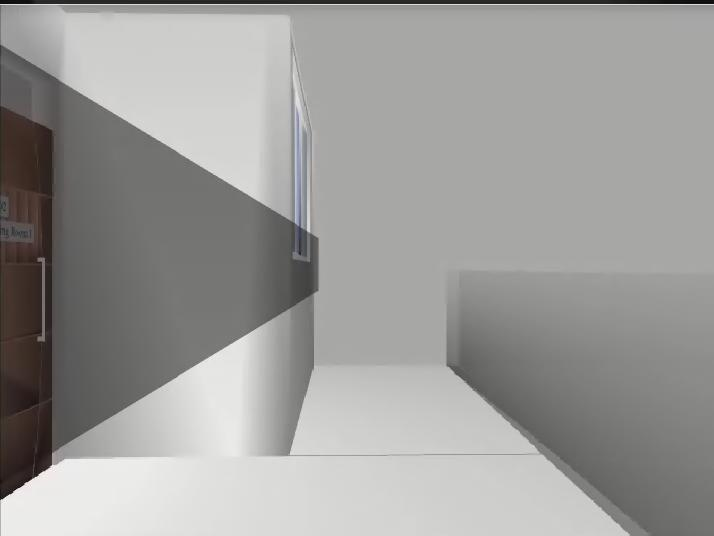door: (1, 107, 51, 500)
